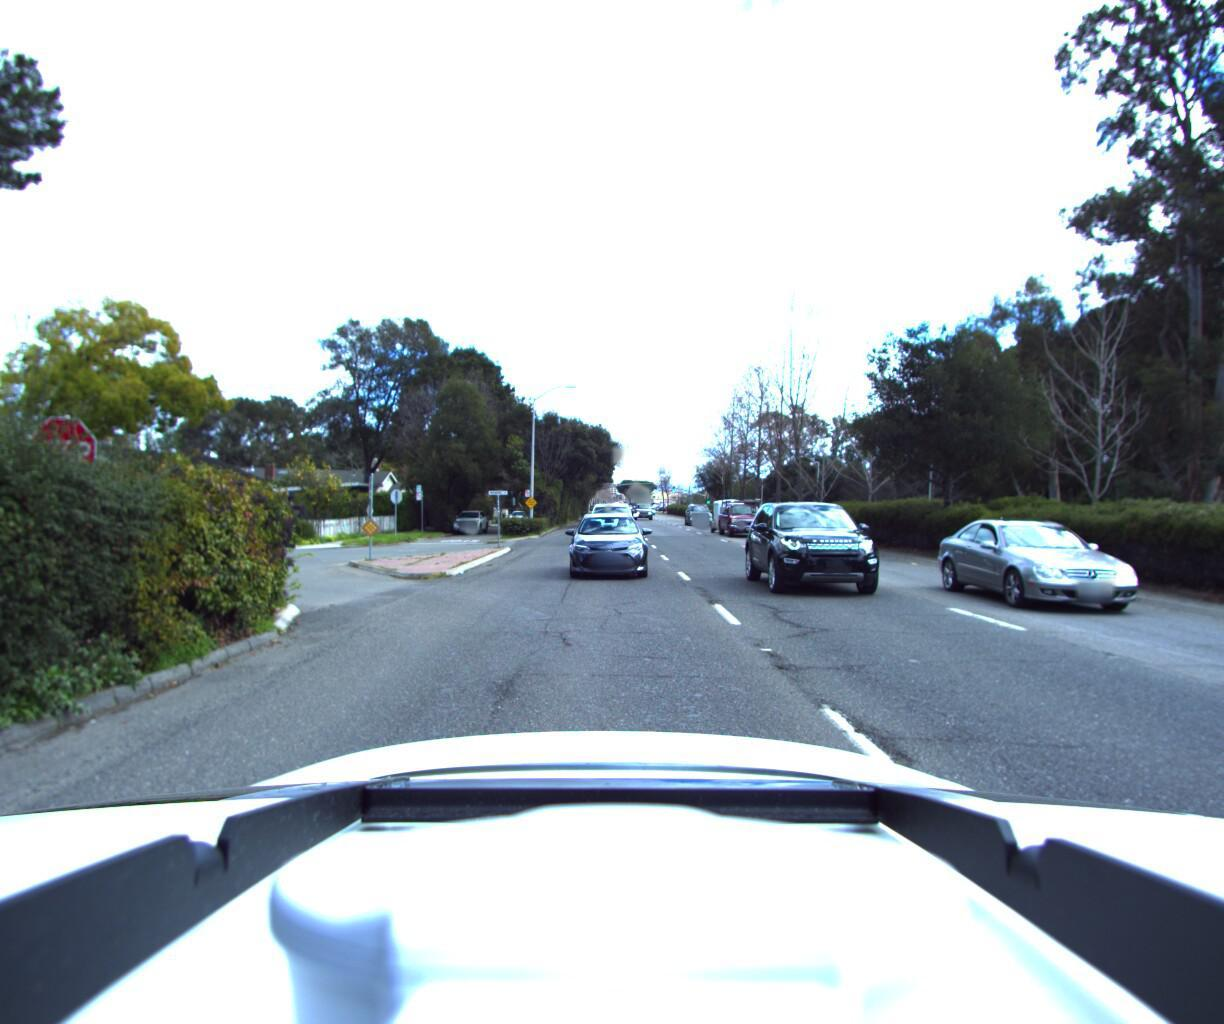car: (952, 515, 1211, 631), (747, 500, 918, 612), (564, 513, 651, 586), (709, 496, 774, 542), (588, 505, 636, 548), (452, 510, 493, 538), (687, 505, 719, 529)
